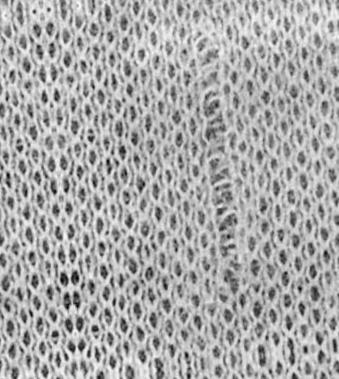slub: (200, 88, 245, 279)
